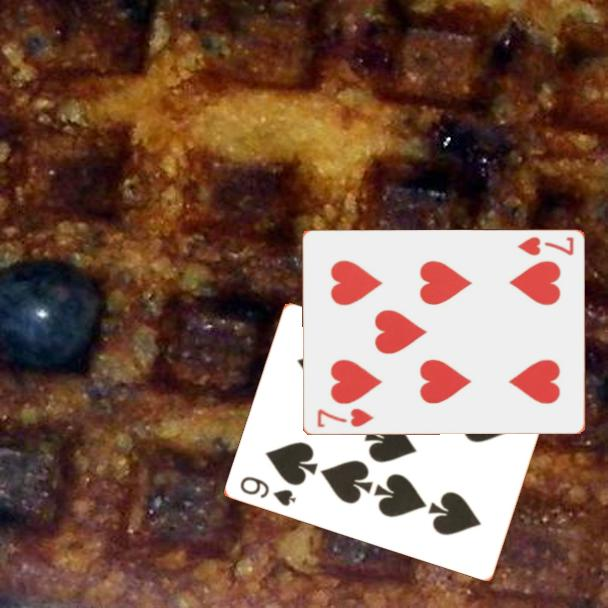h07: (313, 405, 376, 430), (513, 234, 576, 259)
s09: (237, 473, 299, 509)
